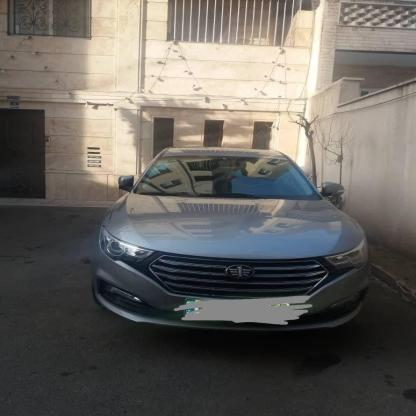Car: (102, 138, 378, 358)
